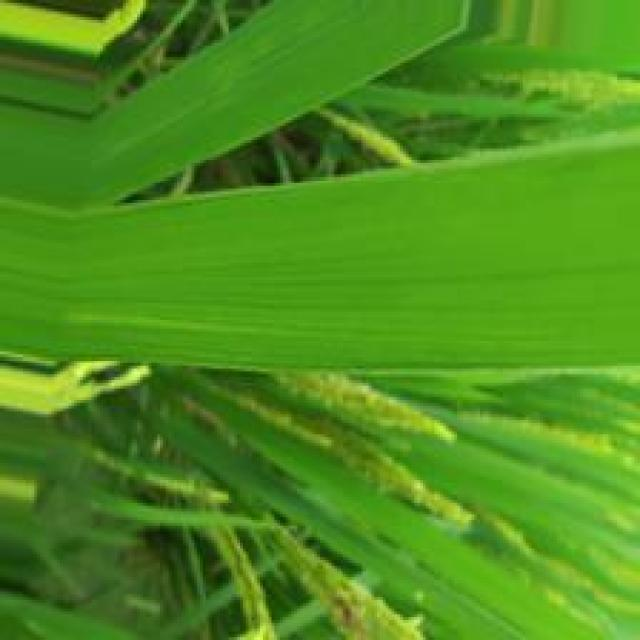HealthyLeaf: (82, 149, 635, 363)
